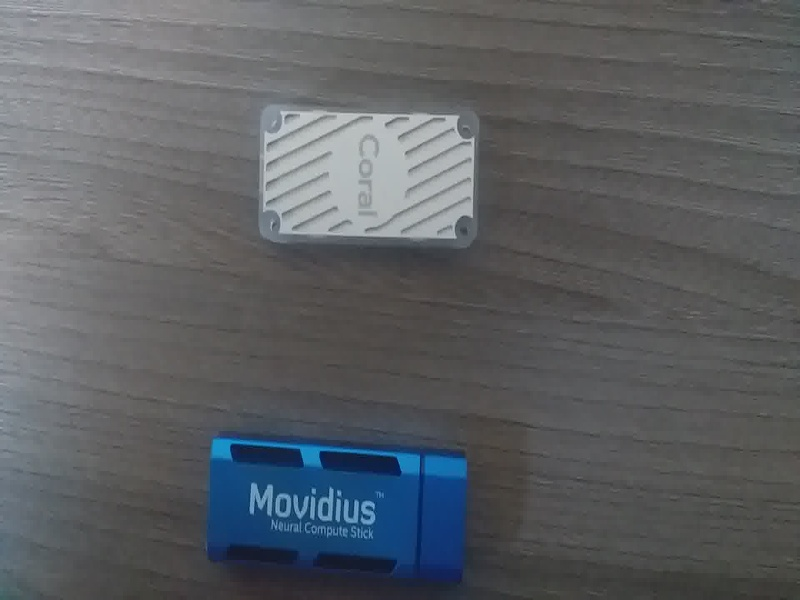coral: (244, 97, 487, 264)
movidius: (197, 425, 484, 588)
